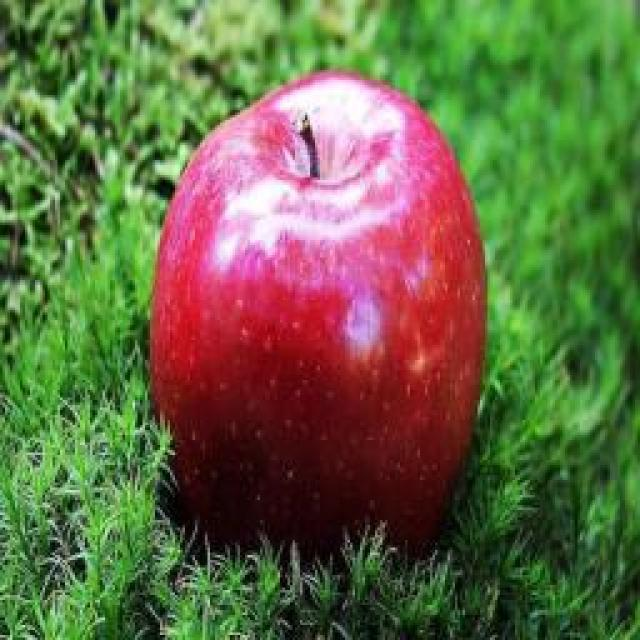Apple: (151, 72, 485, 544)
